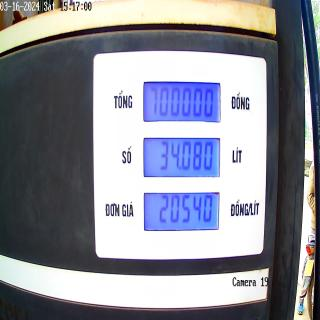screen: (141, 75, 223, 236)
